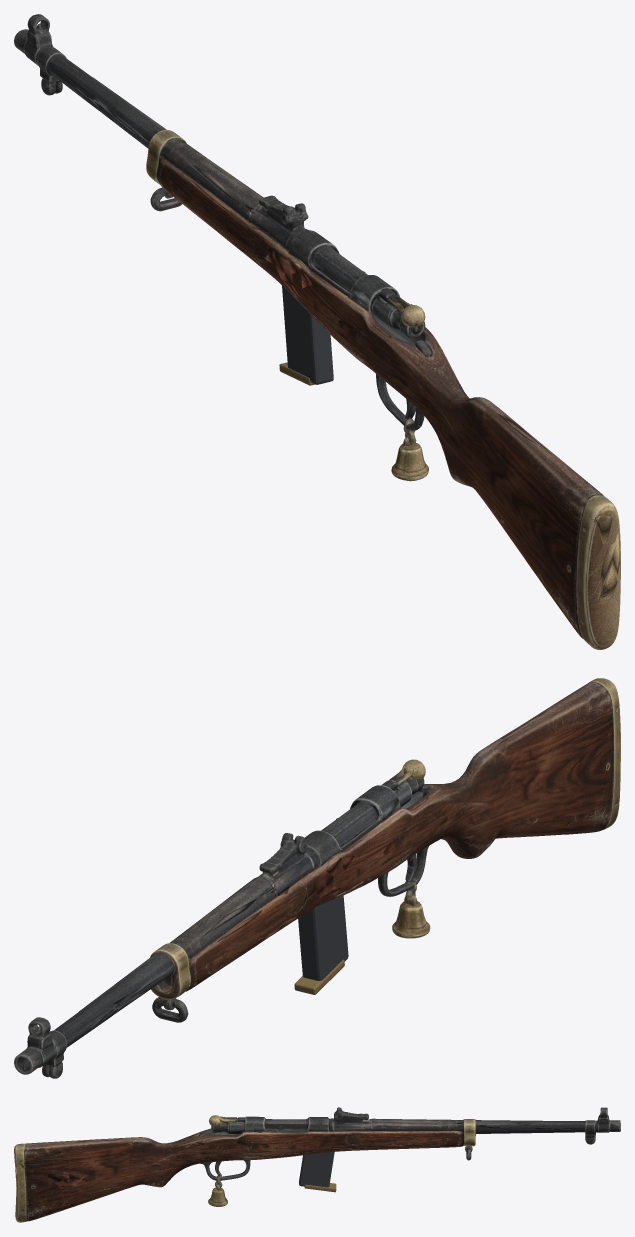
Rendered from herdkeeper.glb.
3 views of the same model, one above another, from view 1: azimuth 30°, elevation 25°; view 2: azimuth 150°, elevation 25°; view 3: azimuth 270°, elevation 25° (orthographic). The views are drawn at different scales.
Parts seen in each view (by area): view 1: Body, Magazine, Bell; view 2: Body, Magazine, Bell; view 3: Body, Magazine, Bell.
Boxes of the visible parts, <box> form: Body: <box>14,14,620,649</box>; Magazine: <box>279,285,333,385</box>; Bell: <box>391,433,428,481</box>; Body: <box>14,678,620,1078</box>; Magazine: <box>294,895,348,994</box>; Bell: <box>392,891,430,938</box>; Body: <box>14,1107,620,1222</box>; Magazine: <box>299,1152,336,1192</box>; Bell: <box>208,1183,227,1206</box>.
Bounding box in the file's own units: 0.0478 × 0.2193 × 1.06.
3 materials, 1 textured.
